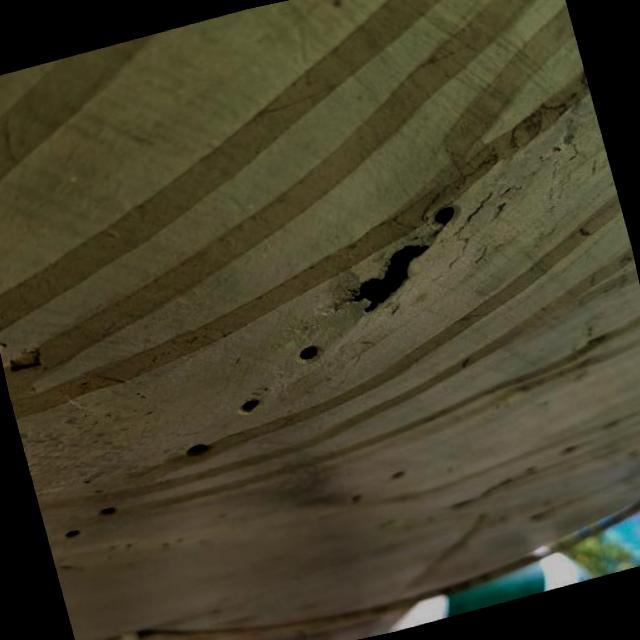Missing Fastener: (175, 431, 218, 470), (426, 195, 468, 234), (280, 338, 325, 370), (232, 392, 262, 422), (94, 496, 124, 524), (56, 522, 86, 544)
